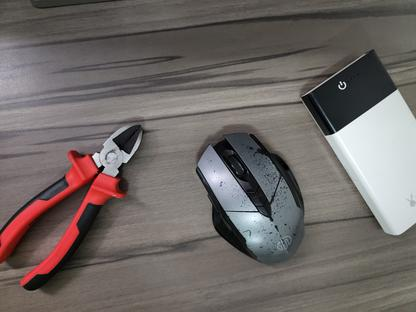mouse: (194, 131, 304, 264)
